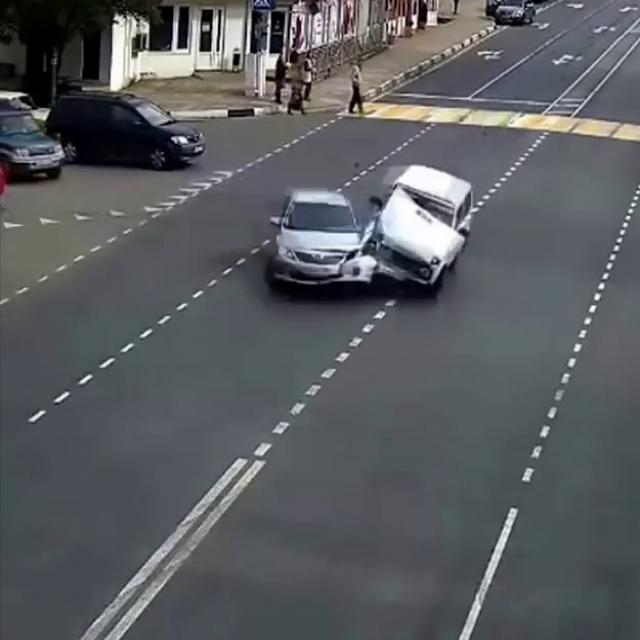accident: (251, 162, 478, 320)
